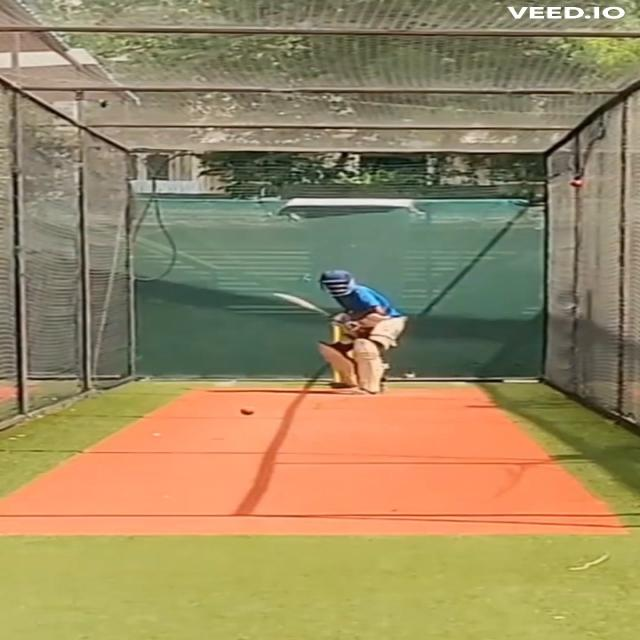ball: (239, 406, 256, 416)
